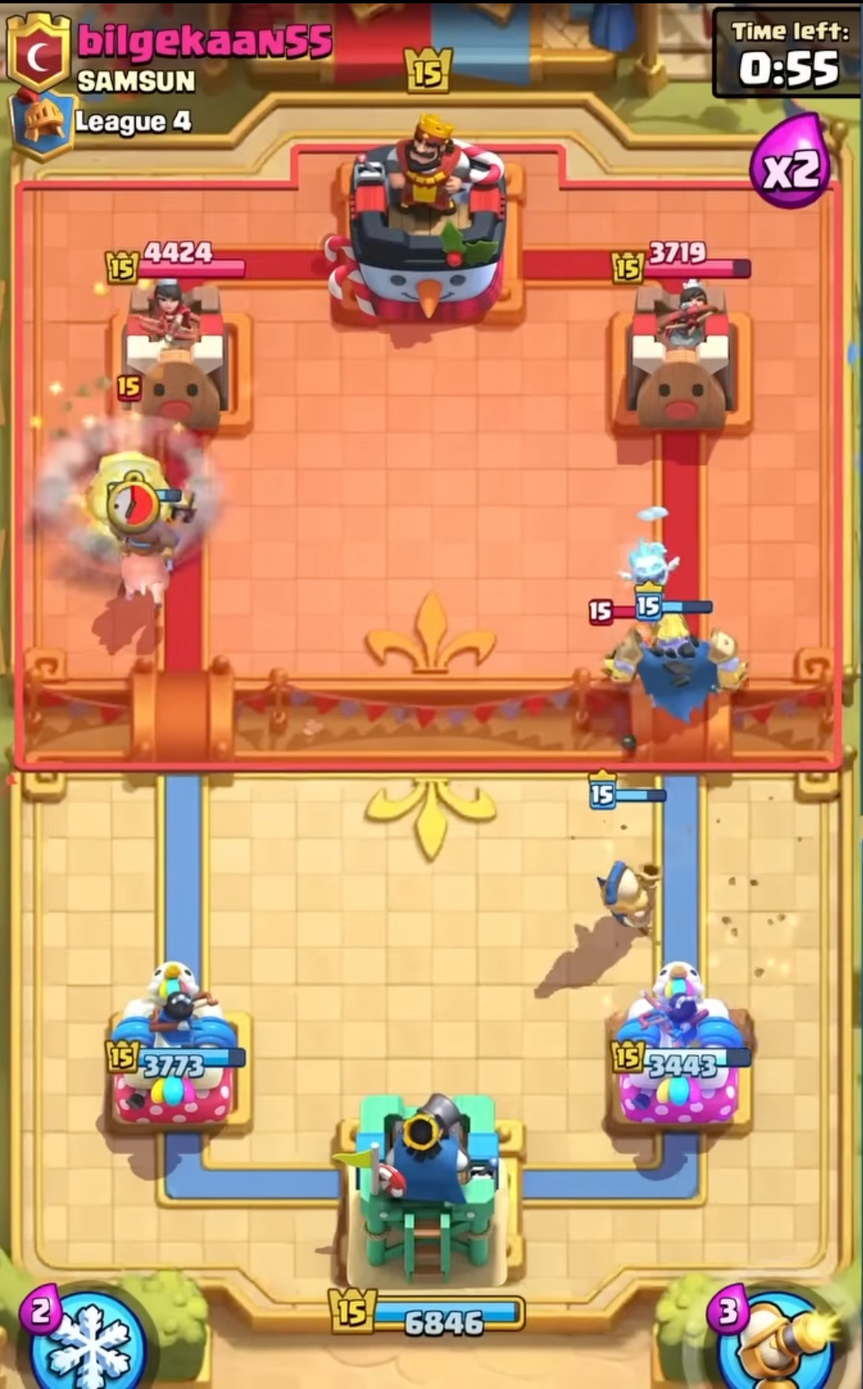hero-ice-golem: (614, 580, 750, 738)
hero-musketeer: (571, 773, 690, 965)
hog-rider: (104, 481, 195, 617)
